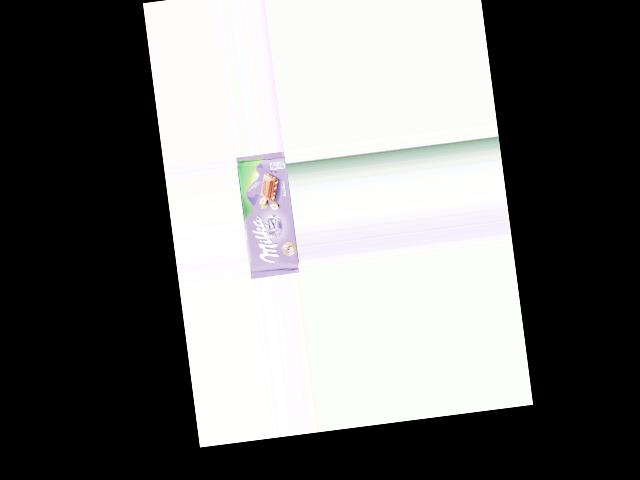chocolate: (235, 150, 300, 278)
